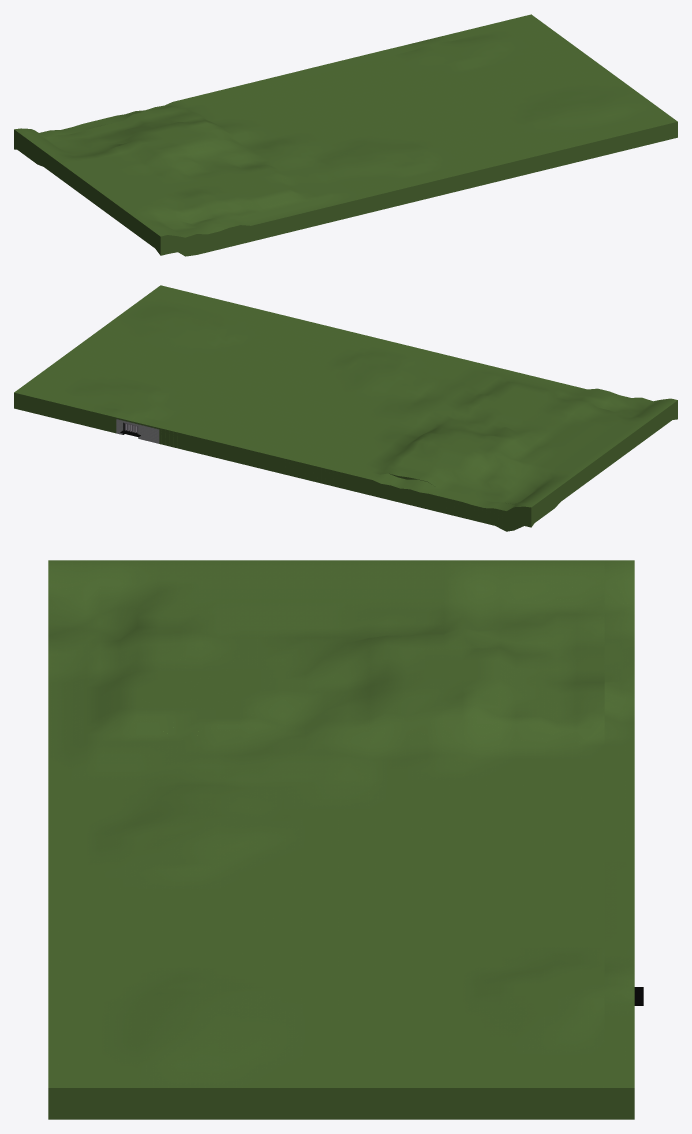
File: RightPlane2.fbx
The picture shows the model from 3 angles, top to bottom: view 1: azimuth 30°, elevation 25°; view 2: azimuth 150°, elevation 25°; view 3: azimuth 270°, elevation 25°; orthographic projection. The views are drawn at different scales.
Visible parts, largest first — view 1: RightPlane; view 2: RightPlane; view 3: RightPlane.
Part boxes in pixels (x1,y1,x2,y2): RightPlane: (14, 14, 677, 256); RightPlane: (14, 285, 677, 531); RightPlane: (48, 560, 634, 1119).
Bounding box in the file's own units: 64539 × 3799 × 32175.
5 materials, 4 textured.
